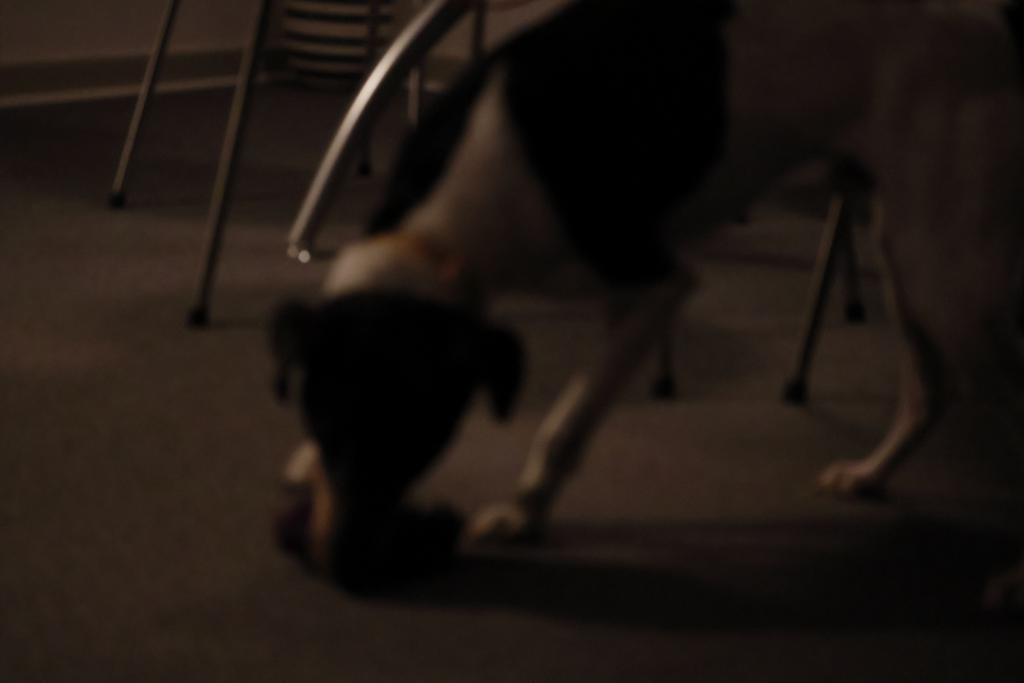Dog: (252, 0, 1024, 580)
